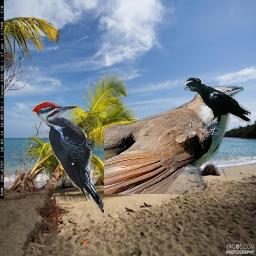Crow: (184, 77, 251, 135)
Cuckoo: (104, 86, 244, 194)
Woodpecker: (31, 101, 104, 213)
